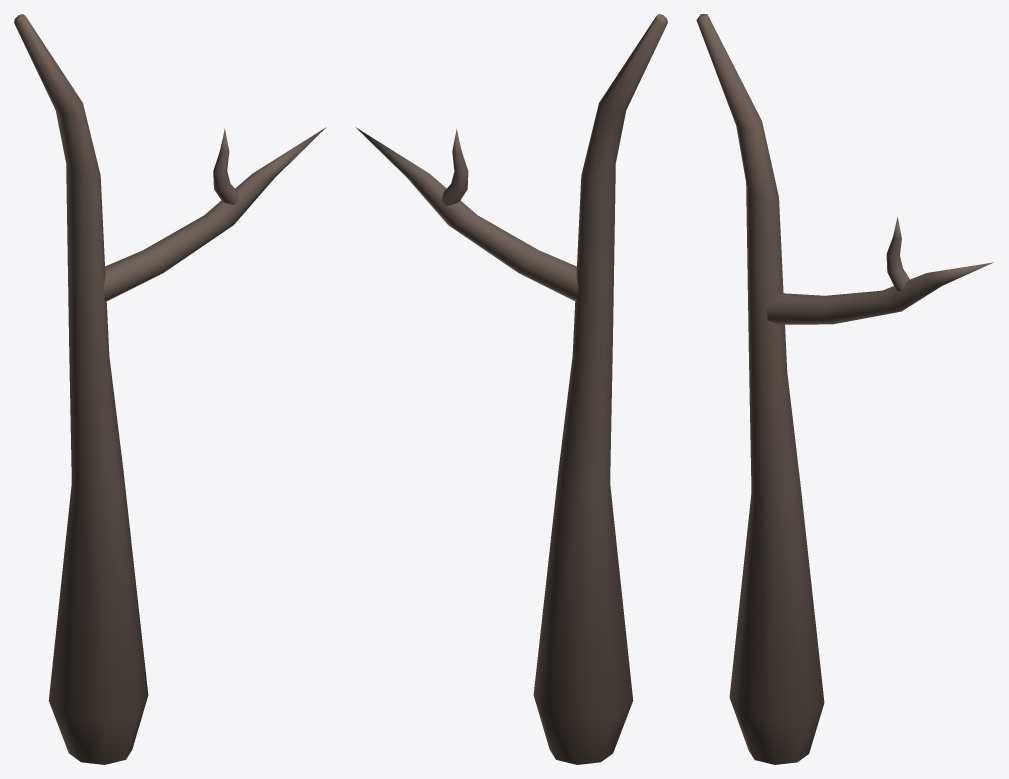
Rendered from dead_tree_a.glb.
3 renders of one model, left to right at view 1: azimuth 30°, elevation 25°; view 2: azimuth 150°, elevation 25°; view 3: azimuth 330°, elevation 25°, orthographic. The views are drawn at different scales.
Visible parts, largest first — view 1: tree_dead_medium; view 2: tree_dead_medium; view 3: tree_dead_medium.
Boxes of the visible parts, <box> form: tree_dead_medium: <box>14,14,326,764</box>; tree_dead_medium: <box>355,14,667,764</box>; tree_dead_medium: <box>696,14,993,764</box>.
Bounding box in the file's own units: 1.81 × 4.19 × 0.4667.
Materials: 1 (1 with a texture image).
